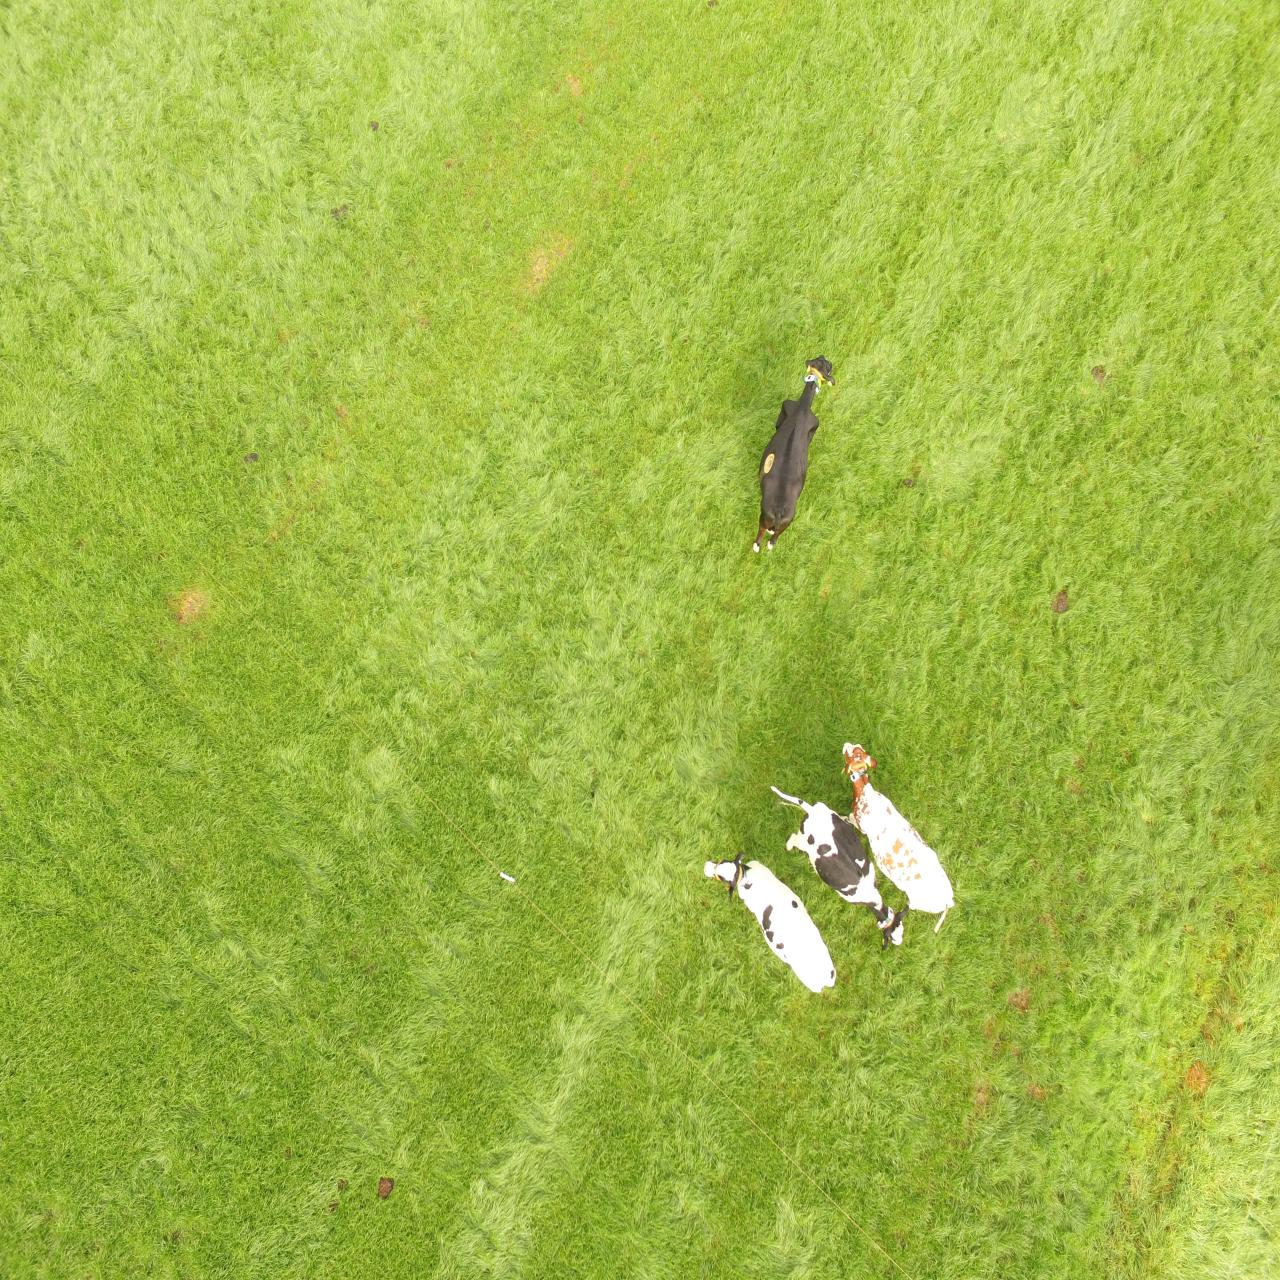cow: (769, 783, 908, 944), (837, 741, 959, 915), (703, 862, 837, 992), (754, 356, 835, 553)
